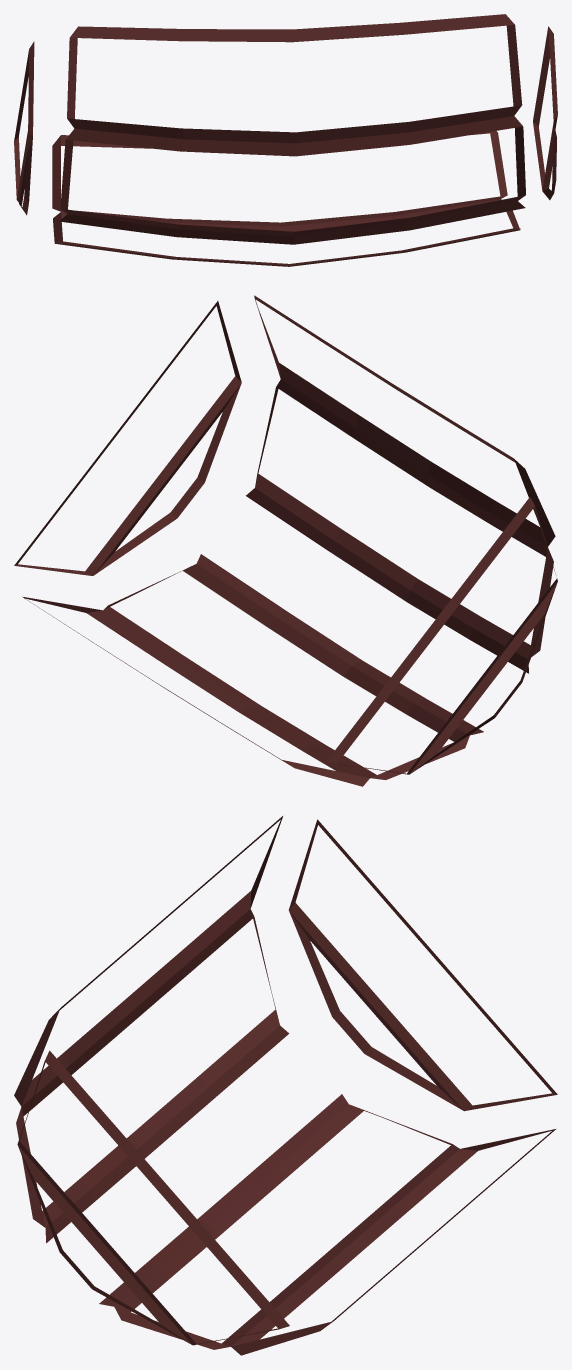
File: n2_chest_top_dark_brown_0_lev2.004.glb
3 views of the same model, one above another, from view 1: azimuth 30°, elevation 25°; view 2: azimuth 150°, elevation 25°; view 3: azimuth 270°, elevation 25° (orthographic). The views are drawn at different scales.
Parts seen in each view (by area): view 1: n2_chest_top_dark_brown_0_lev2.004; view 2: n2_chest_top_dark_brown_0_lev2.004; view 3: n2_chest_top_dark_brown_0_lev2.004.
Boxes of the visible parts, x1,y1,x2,y2 form: n2_chest_top_dark_brown_0_lev2.004: [14, 14, 557, 266]; n2_chest_top_dark_brown_0_lev2.004: [14, 295, 557, 786]; n2_chest_top_dark_brown_0_lev2.004: [14, 816, 557, 1355].
Bounding box in the file's own units: 1.9 × 0.9811 × 1.51.
